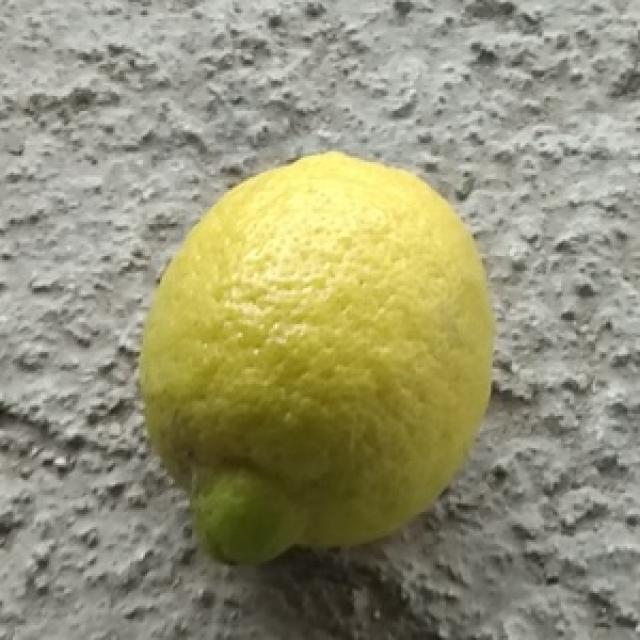Ripe: (137, 151, 499, 564)
